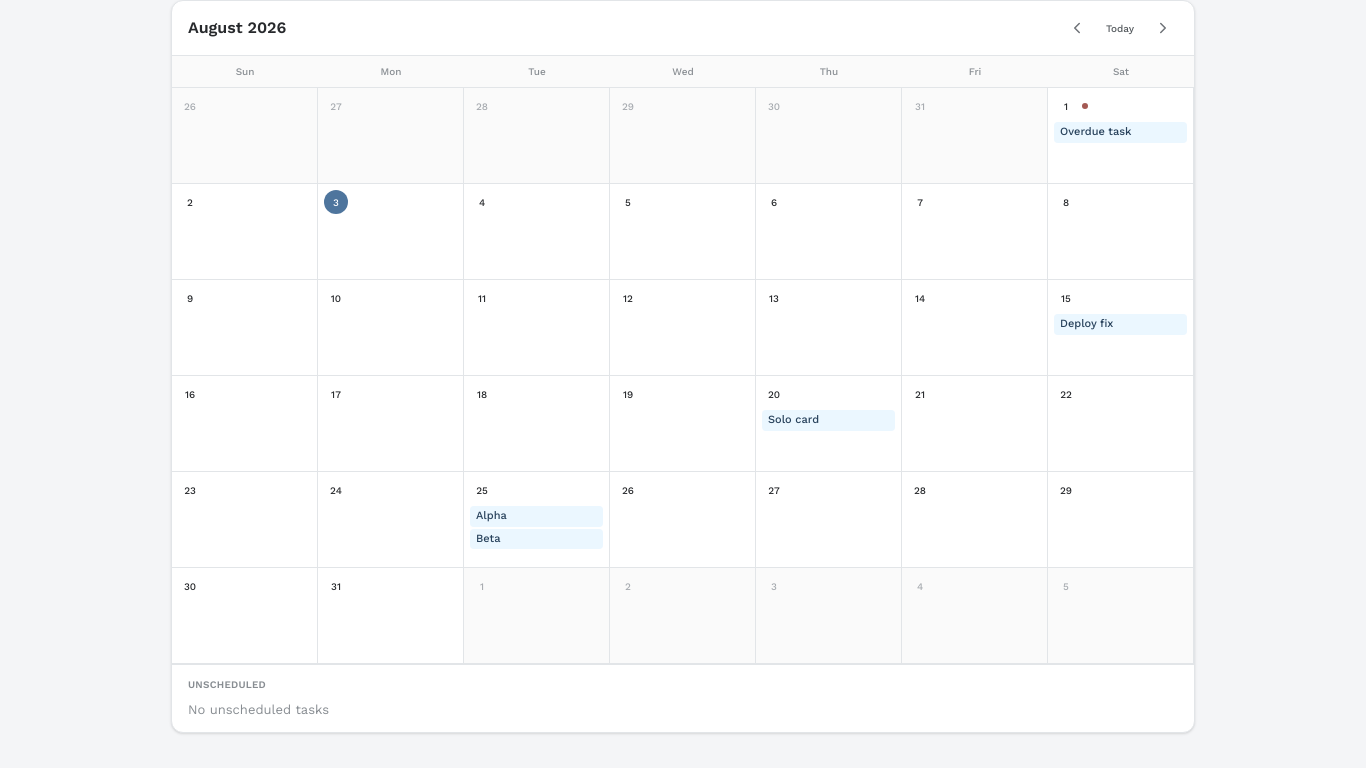
Test: CalendarView display › opens modal when multiple cards share a date
Click the button with test id "date-cell-2026-08-25" at (537, 520), box [464,472,610,568]
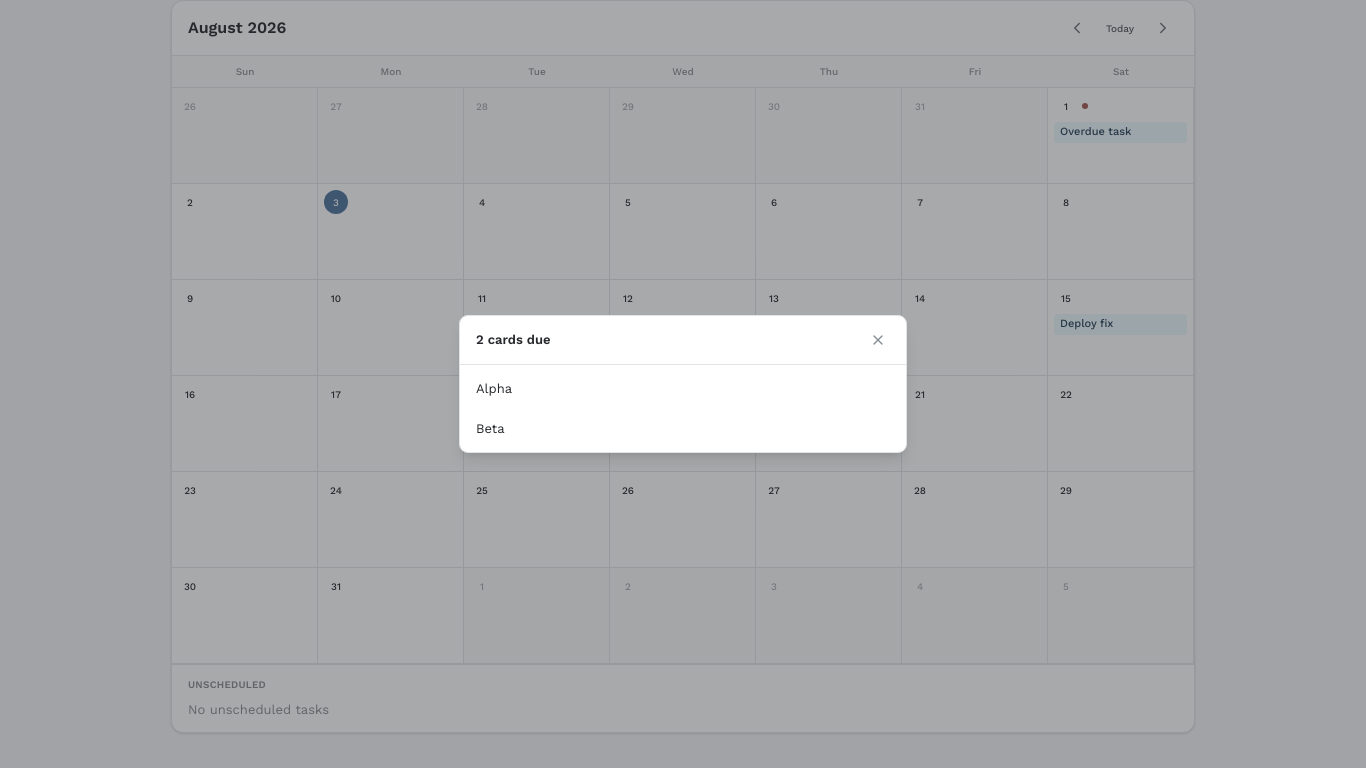
Expected: the button "Alpha" is shown, [460,369,906,408]
Expected: the dialog is shown, [459,315,907,453]
